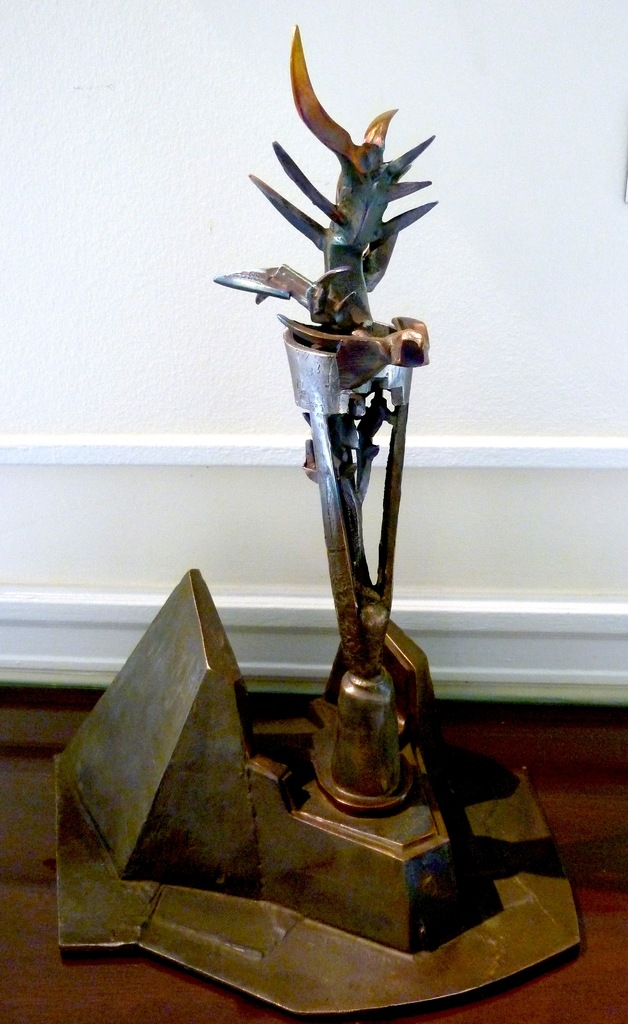person: (283, 22, 429, 386)
